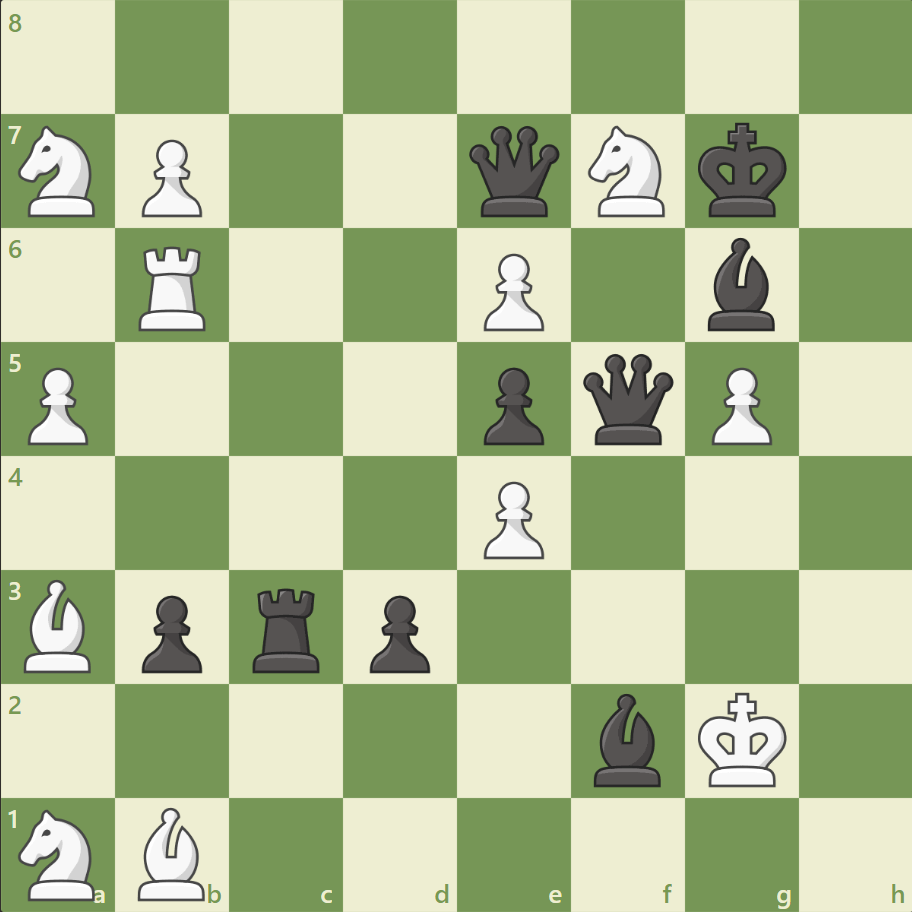B: (131, 801, 215, 904), (17, 574, 101, 676)
K: (692, 685, 792, 793)
N: (11, 121, 108, 223), (579, 121, 676, 223), (11, 802, 108, 904)
P: (133, 132, 208, 223), (474, 246, 549, 337), (20, 359, 95, 450), (701, 359, 776, 450), (474, 473, 549, 564)
R: (133, 239, 215, 336)
b: (698, 233, 782, 336), (585, 687, 669, 790)
k: (692, 117, 792, 225)
p: (474, 359, 549, 450), (133, 586, 208, 677), (361, 586, 435, 677)
q: (464, 122, 563, 222), (578, 349, 677, 449)
r: (246, 579, 329, 676)
